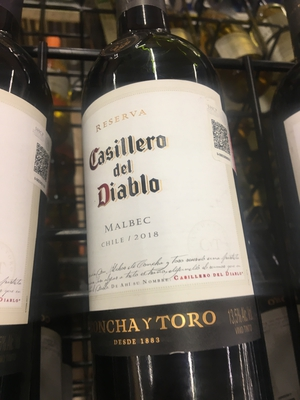casillero del diablo malbec: (73, 14, 264, 400)
